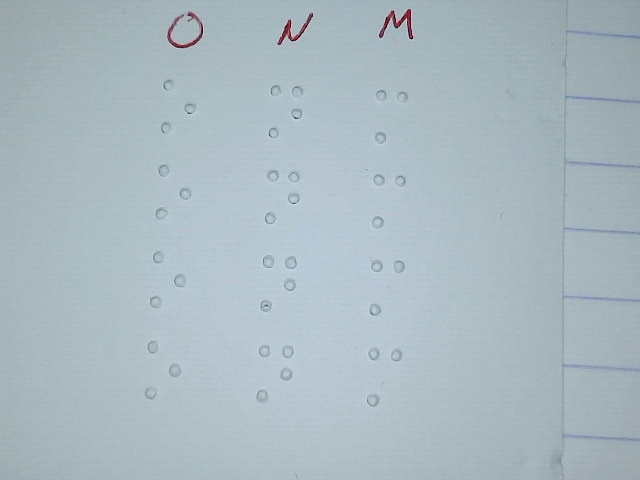M: (366, 346, 404, 407), (368, 259, 405, 316), (373, 88, 410, 143), (371, 173, 408, 228)
N: (255, 343, 295, 402), (260, 254, 298, 312), (268, 83, 305, 137), (264, 169, 301, 223)
O: (149, 249, 188, 308), (144, 339, 183, 398), (155, 162, 193, 219), (160, 79, 197, 133)
